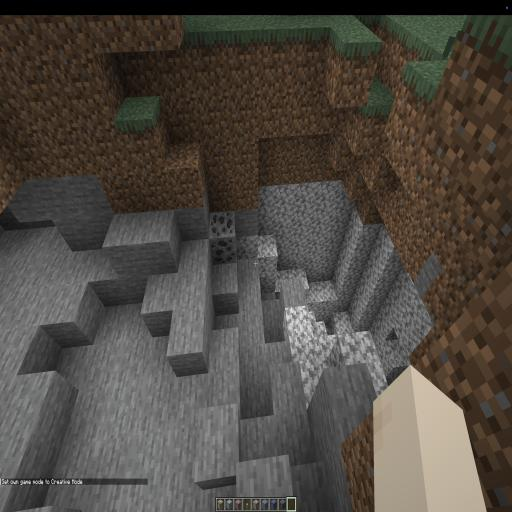coal ore: (210, 211, 236, 267)
